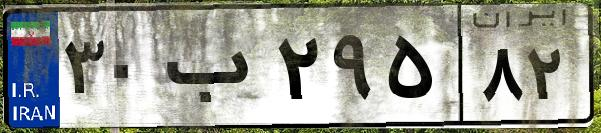0: (110, 28, 158, 98)
2: (270, 28, 330, 110), (525, 38, 570, 115)
3: (57, 26, 110, 100)
5: (385, 28, 445, 110)
8: (475, 38, 525, 113)
9: (330, 28, 385, 110)
ب: (158, 20, 270, 120)
